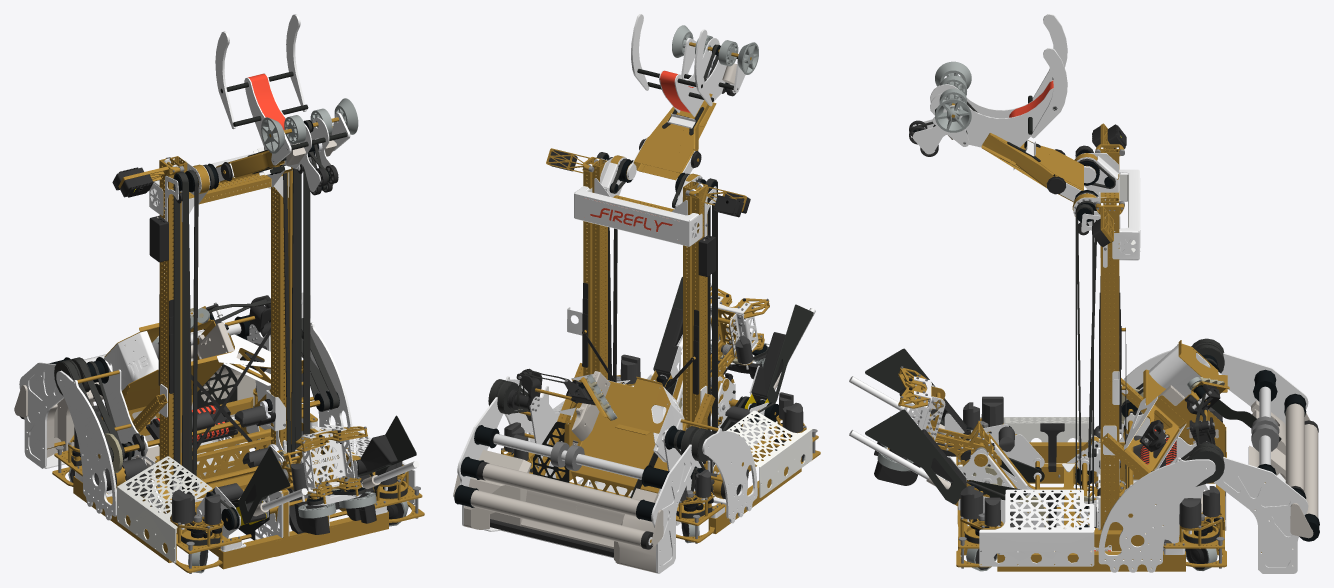
3 views of the same model, side by side, from view 1: azimuth 30°, elevation 25°; view 2: azimuth 150°, elevation 25°; view 3: azimuth 270°, elevation 25° (orthographic). The views are drawn at different scales.
Parts seen in each view (by area): view 1: 01_BUMPER_SHIELD_SHORT_10.001, 04_ELEVATOR_BELT_2100_420T_9_2, 02_INTAKE_PIVOT_PLATE, 04_ELEVATOR_BELT_2100_420T_9_1, 04_SLIDE_RAIL_MAXTUBE_LIGHT_7, 04_STAT_RAIL_MAXTUBE_LIGHT_6.001, 04_ARM_BELT_1945_389T_12_1, 02_02_01_SIDE_PLATE_MOVING_LEFT, 01_CHASSIS_RAIL.001, 04_ARM_BELT_1945_389T_12_2, 03_3001_BACKPLATE_ALT_5, 02_CRAZY_INTAKE_BENT (+37 smaller); view 2: 02_CRAZY_INTAKE_BENT, 01_BUMPER_SHIELD_SHORT_10.001, 02_POOL_NOODLE_ROLLER_4, 02_INTAKE_PIVOT_PLATE, 02_POOL_NOODLE_ROLLER_MID_1, 04_SLIDE_RAIL_MAXTUBE_LIGHT_7, 02_02_01_SIDE_PLATE_MOVING_LEFT, FACE_PLATE_23.001, 04_STAT_RAIL_MAXTUBE_LIGHT_6.001, 02_03_TPU_RAMP_BACKSTOP_LONG_23, 04_UPPER_BRIDGE_REAR_30, 02_RAMP_POLY_ROOF_5 (+32 smaller); view 3: 01_BUMPER_SHIELD_MIRROR_5.001, 02_INTAKE_PIVOT_PLATE.001, 02_02_01_SIDE_PLATE_MOVING_RIGH, 04_STAT_RAIL_MAXTUBE_LIGHT_6, 05_LIGHTSABER_RIGHT_MIR, EE_PROTO_MAIN_PLATE2_36.001, 02_02_01_SIDE_PLATE_MOVING_LEFT, 01_CHASSIS_RAIL.002, 02_POOL_NOODLE_ROLLER_MID_1, 01_BUMPER_SHIELD_SHORT_10.001, 02_CRAZY_INTAKE_BENT, 04_UPPER_BRIDGE_REAR_30 (+30 smaller).
Part boxes in pixels (x1=…): 01_BUMPER_SHIELD_SHORT_10.001: x1=117, y1=456, x2=212, y2=563; 04_ELEVATOR_BELT_2100_420T_9_2: x1=173, y1=172, x2=188, y2=489; 02_INTAKE_PIVOT_PLATE: x1=56, y1=370, x2=116, y2=520; 04_ELEVATOR_BELT_2100_420T_9_1: x1=295, y1=167, x2=310, y2=462; 04_SLIDE_RAIL_MAXTUBE_LIGHT_7: x1=271, y1=172, x2=288, y2=447; 04_STAT_RAIL_MAXTUBE_LIGHT_6.001: x1=159, y1=174, x2=173, y2=484; 04_ARM_BELT_1945_389T_12_1: x1=283, y1=168, x2=297, y2=460; 02_02_01_SIDE_PLATE_MOVING_LEFT: x1=19, y1=362, x2=63, y2=468; 01_CHASSIS_RAIL.001: x1=218, y1=511, x2=388, y2=569; 04_ARM_BELT_1945_389T_12_2: x1=187, y1=170, x2=198, y2=489; 03_3001_BACKPLATE_ALT_5: x1=301, y1=427, x2=354, y2=493; 02_CRAZY_INTAKE_BENT: x1=101, y1=321, x2=234, y2=421; 02_CRAZY_INTAKE_BENT: x1=564, y1=381, x2=687, y2=496; 01_BUMPER_SHIELD_SHORT_10.001: x1=726, y1=410, x2=812, y2=497; 02_POOL_NOODLE_ROLLER_4: x1=470, y1=490, x2=645, y2=547; 02_INTAKE_PIVOT_PLATE: x1=702, y1=428, x2=757, y2=523; 02_POOL_NOODLE_ROLLER_MID_1: x1=482, y1=463, x2=640, y2=516; 04_SLIDE_RAIL_MAXTUBE_LIGHT_7: x1=592, y1=159, x2=607, y2=379; 02_02_01_SIDE_PLATE_MOVING_LEFT: x1=651, y1=444, x2=697, y2=573; FACE_PLATE_23.001: x1=634, y1=93, x2=712, y2=172; 04_STAT_RAIL_MAXTUBE_LIGHT_6.001: x1=692, y1=196, x2=707, y2=469; 02_03_TPU_RAMP_BACKSTOP_LONG_23: x1=464, y1=449, x2=531, y2=529; 04_UPPER_BRIDGE_REAR_30: x1=574, y1=186, x2=702, y2=246; 02_RAMP_POLY_ROOF_5: x1=615, y1=376, x2=670, y2=435; 01_BUMPER_SHIELD_MIRROR_5.001: x1=979, y1=489, x2=1094, y2=566; 02_INTAKE_PIVOT_PLATE.001: x1=1098, y1=457, x2=1215, y2=572; 02_02_01_SIDE_PLATE_MOVING_RIGH: x1=1214, y1=457, x2=1308, y2=573; 04_STAT_RAIL_MAXTUBE_LIGHT_6: x1=1100, y1=214, x2=1119, y2=528; 05_LIGHTSABER_RIGHT_MIR: x1=865, y1=409, x2=966, y2=504; EE_PROTO_MAIN_PLATE2_36.001: x1=912, y1=88, x2=1053, y2=154; 02_02_01_SIDE_PLATE_MOVING_LEFT: x1=1221, y1=353, x2=1308, y2=424; 01_CHASSIS_RAIL.002: x1=997, y1=551, x2=1185, y2=571; 02_POOL_NOODLE_ROLLER_MID_1: x1=1285, y1=403, x2=1304, y2=492; 01_BUMPER_SHIELD_SHORT_10.001: x1=980, y1=417, x2=1094, y2=442; 02_CRAZY_INTAKE_BENT: x1=1143, y1=369, x2=1226, y2=495; 04_UPPER_BRIDGE_REAR_30: x1=1112, y1=169, x2=1139, y2=260.
Size of the model in its own units: 75.48 by 150 by 130.
